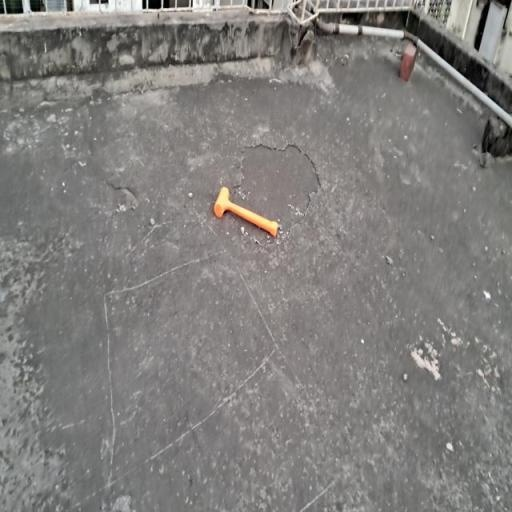mallet: (214, 187, 278, 236)
